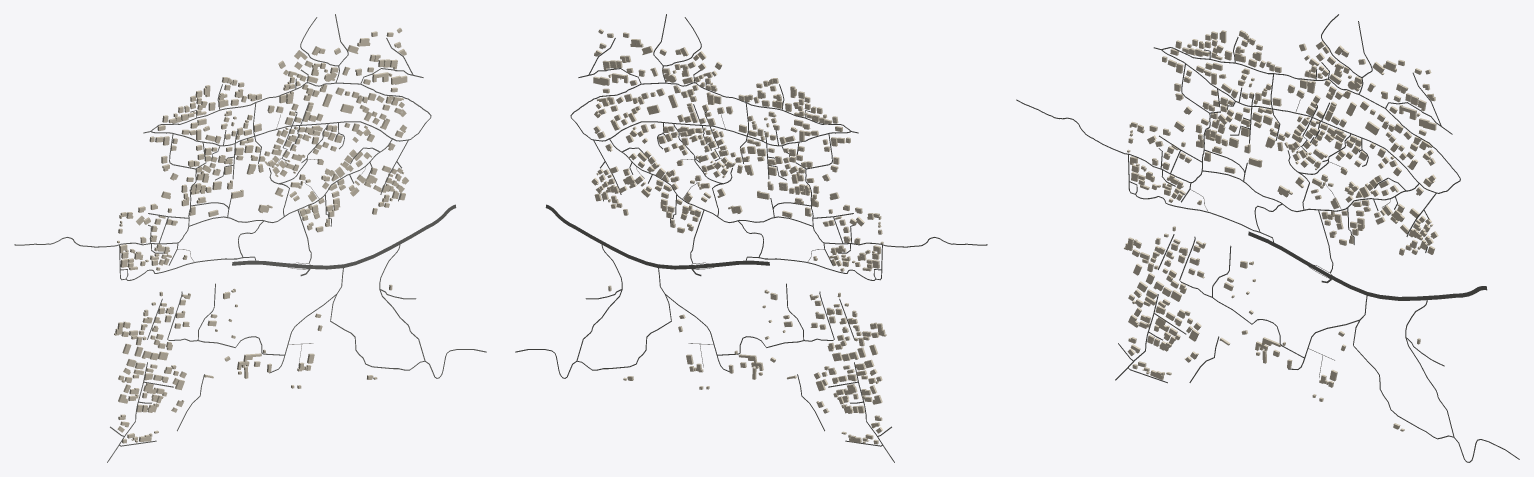
File: historic-palestine-11_24_3525_3185.glb
3 renders of one model, left to right at view 1: azimuth 30°, elevation 25°; view 2: azimuth 150°, elevation 25°; view 3: azimuth 330°, elevation 25°, orthographic. The views are drawn at different scales.
Parts seen in each view (by area): view 1: Road 60, Road .001; view 2: Road 60, Road .001; view 3: Road 60, Road .001.
Boxes of the visible parts, x1,y1,x2,y2 form: Road 60: (232,204,456,269); Road .001: (14,134,196,247); Road 60: (545,204,769,269); Road .001: (805,134,987,247); Road 60: (1248,231,1487,300); Road .001: (1016,64,1210,183).
Bounding box in the file's own units: 1566 × 1251 × 9.01.
